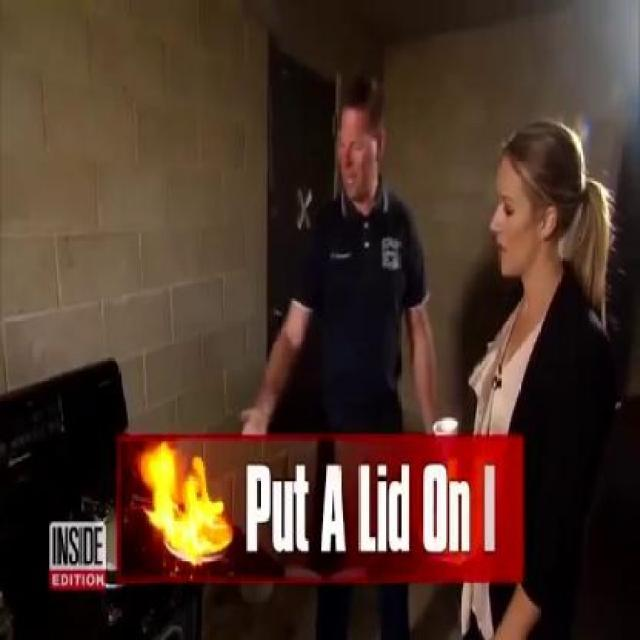fire: (147, 443, 226, 559)
